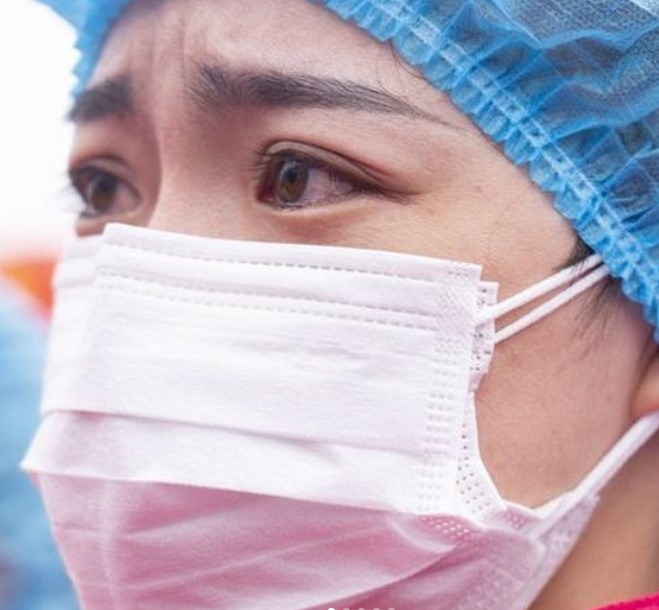face_with_mask: (3, 1, 659, 609)
